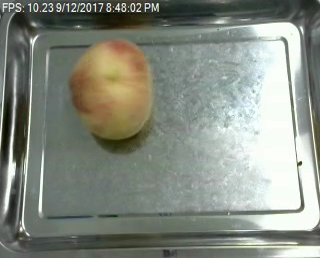Peach: (69, 37, 152, 140)
